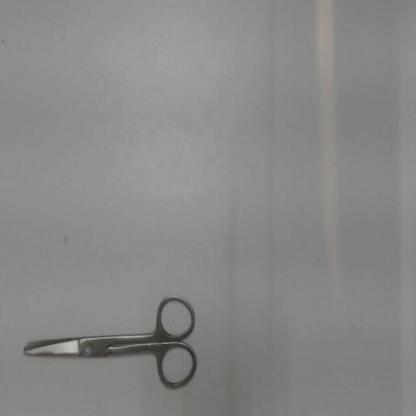Dressing Scissors: (20, 287, 205, 398)
